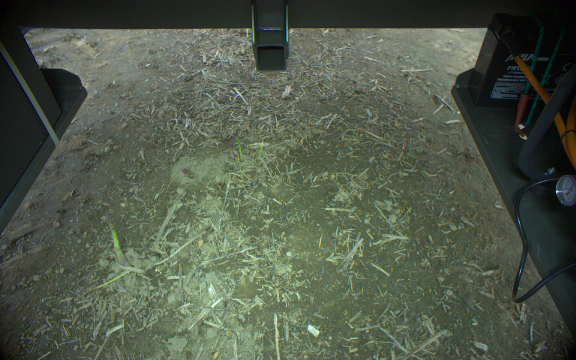aspa: (103, 211, 132, 270), (231, 129, 245, 164), (257, 135, 265, 157)
